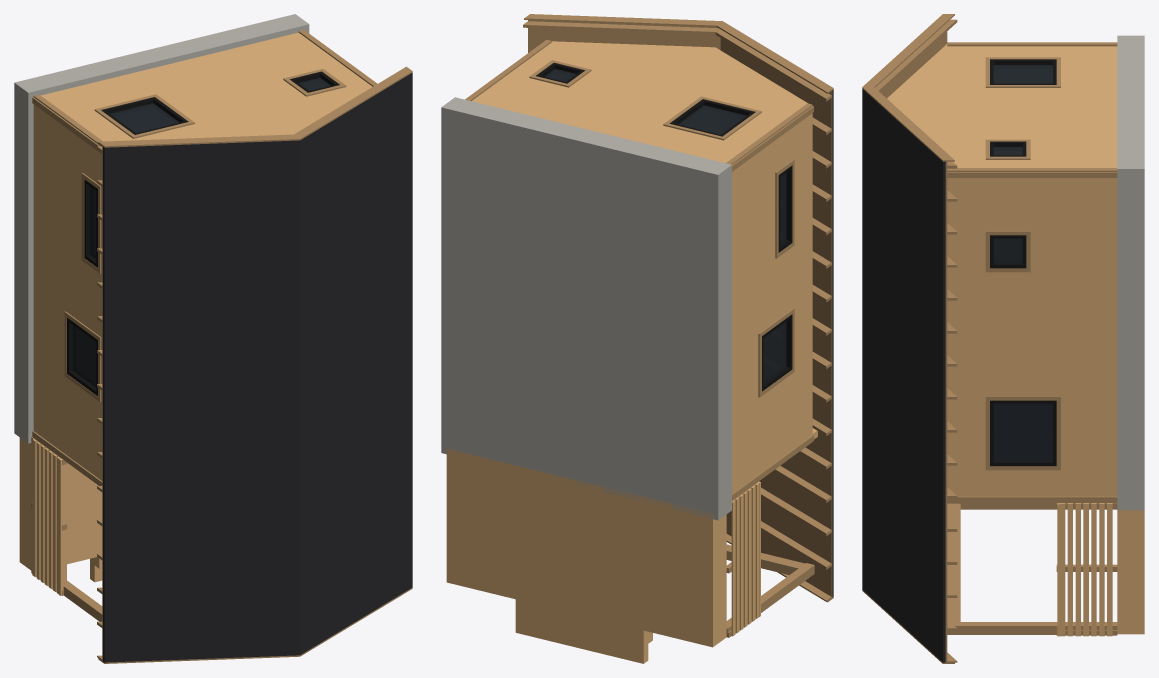
The model's file is cabin-1br-terrace-5x6_3d.obj.
3 views of the same model, side by side, from view 1: azimuth 30°, elevation 25°; view 2: azimuth 150°, elevation 25°; view 3: azimuth 270°, elevation 25° (orthographic). The views are drawn at different scales.
Parts seen in each view (by area): view 1: roof_tiles, wood, slab, trim, glass, frame; view 2: slab, wood, sheathing, trim, rafters, glass, frame, roof_tiles; view 3: wood, roof_tiles, trim, slab, glass, frame, sheathing, rafters.
Boxes of the visible parts, x1=… form: roof_tiles: x1=103, y1=73, x2=412, y2=662; wood: x1=19, y1=32, x2=372, y2=595; slab: x1=14, y1=14, x2=309, y2=443; trim: x1=31, y1=30, x2=412, y2=663; glass: x1=72, y1=77, x2=330, y2=387; frame: x1=67, y1=71, x2=339, y2=395; slab: x1=441, y1=97, x2=731, y2=520; wood: x1=446, y1=41, x2=817, y2=663; sheathing: x1=528, y1=20, x2=832, y2=597; trim: x1=465, y1=14, x2=833, y2=637; rafters: x1=523, y1=21, x2=831, y2=601; glass: x1=545, y1=69, x2=786, y2=383; frame: x1=536, y1=63, x2=792, y2=391; roof_tiles: x1=832, y1=90, x2=833, y2=597; wood: x1=887, y1=44, x2=1144, y2=636; roof_tiles: x1=862, y1=89, x2=945, y2=662; trim: x1=862, y1=14, x2=1117, y2=663; slab: x1=1117, y1=35, x2=1144, y2=510; glass: x1=993, y1=65, x2=1052, y2=461; frame: x1=990, y1=59, x2=1056, y2=466; sheathing: x1=880, y1=31, x2=947, y2=662; rafters: x1=875, y1=19, x2=957, y2=662.
Size of the model in its own units: 570 by 938 by 465.
